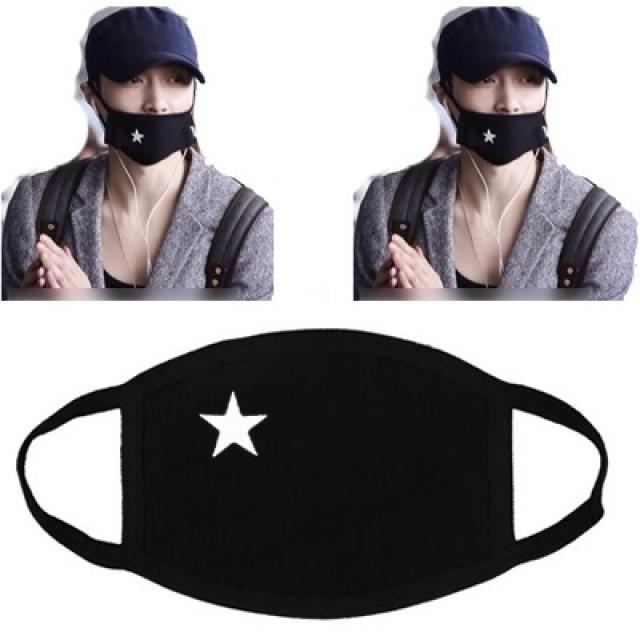mask: (454, 41, 544, 164), (102, 42, 192, 156)
